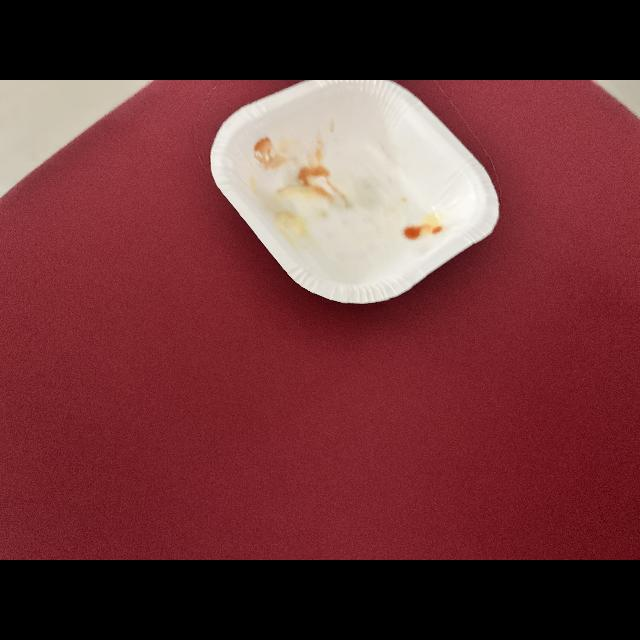cardboard_bowl: (196, 80, 504, 310)
